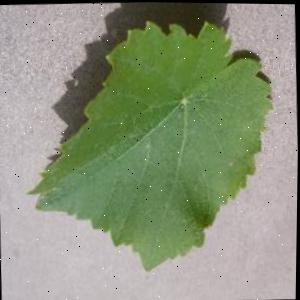Folha: (18, 14, 280, 279)
